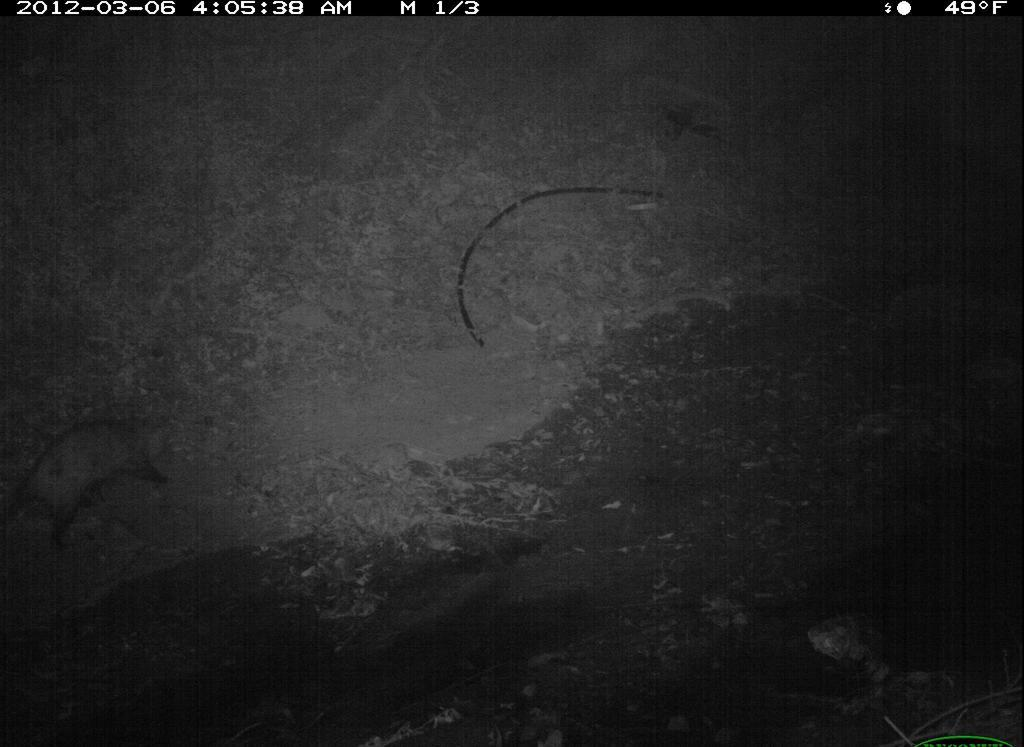opossum: (4, 405, 193, 556)
